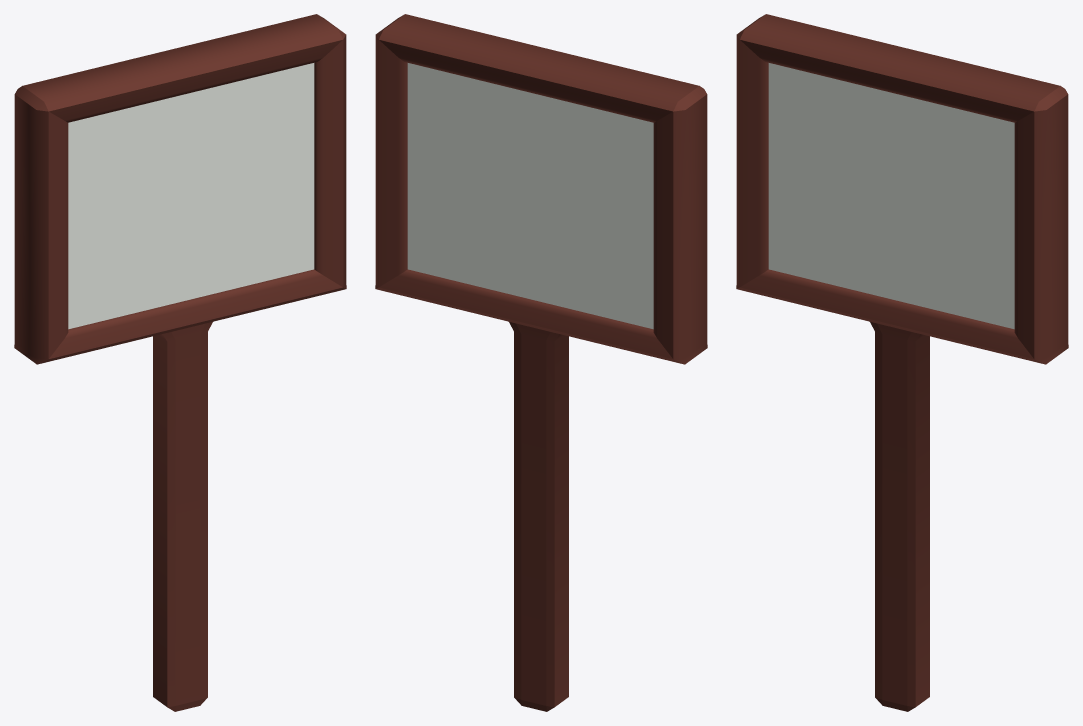
The model's file is Panneau.fbx.
The picture shows the model from 3 angles, left to right: view 1: azimuth 30°, elevation 25°; view 2: azimuth 150°, elevation 25°; view 3: azimuth 330°, elevation 25°; orthographic projection.
Parts seen in each view (by area): view 1: Cube; view 2: Cube; view 3: Cube.
Boxes of the visible parts, box(x1,y1,x2,y2) form: Cube: box(14, 14, 346, 711); Cube: box(375, 14, 707, 711); Cube: box(736, 14, 1068, 711).
Size of the model in its own units: 359 by 715 by 62.15.
